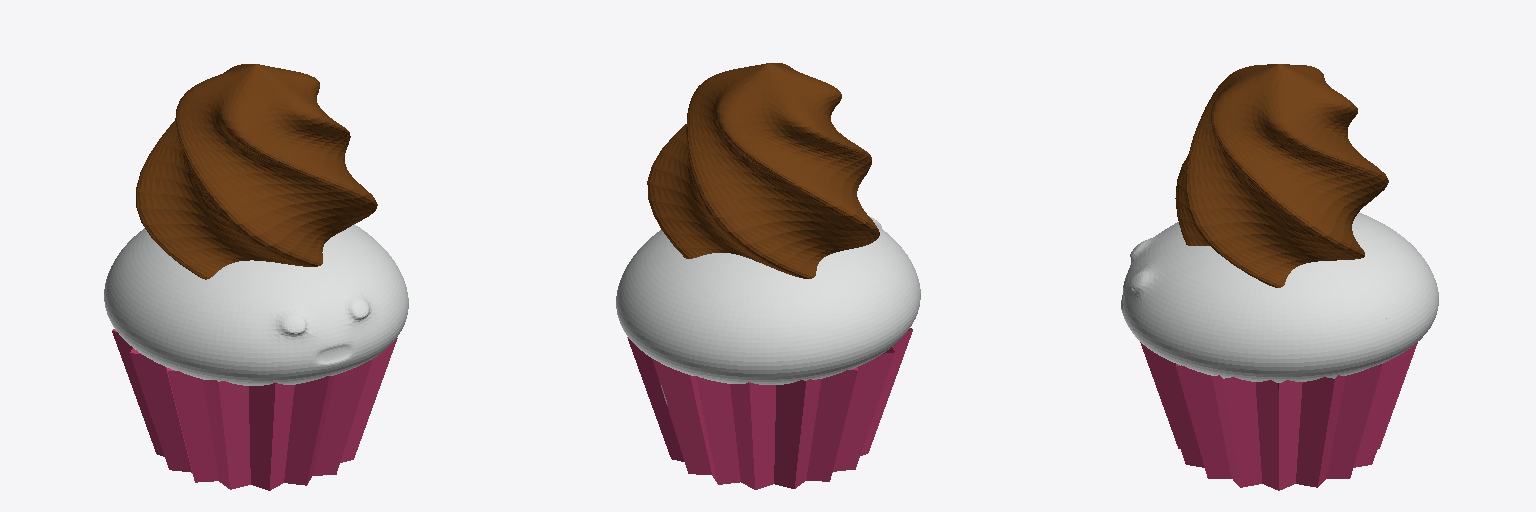
3 views of the same model, side by side, from view 1: azimuth 30°, elevation 25°; view 2: azimuth 150°, elevation 25°; view 3: azimuth 270°, elevation 25° (orthographic).
Parts seen in each view (by area): view 1: Star.002, Sphere, Circle.001; view 2: Star.002, Sphere, Circle.001; view 3: Sphere, Star.002, Circle.001.
Boxes of the visible parts, x1,y1,x2,y2 form: Star.002: [136, 64, 377, 279]; Sphere: [104, 224, 408, 385]; Circle.001: [112, 329, 397, 490]; Star.002: [647, 63, 879, 278]; Sphere: [616, 216, 920, 384]; Circle.001: [627, 328, 912, 489]; Sphere: [1121, 213, 1438, 382]; Star.002: [1175, 64, 1388, 287]; Circle.001: [1140, 342, 1417, 490].
Size of the model in its own units: 1.17 by 1.66 by 1.24.
2 materials, 1 textured.